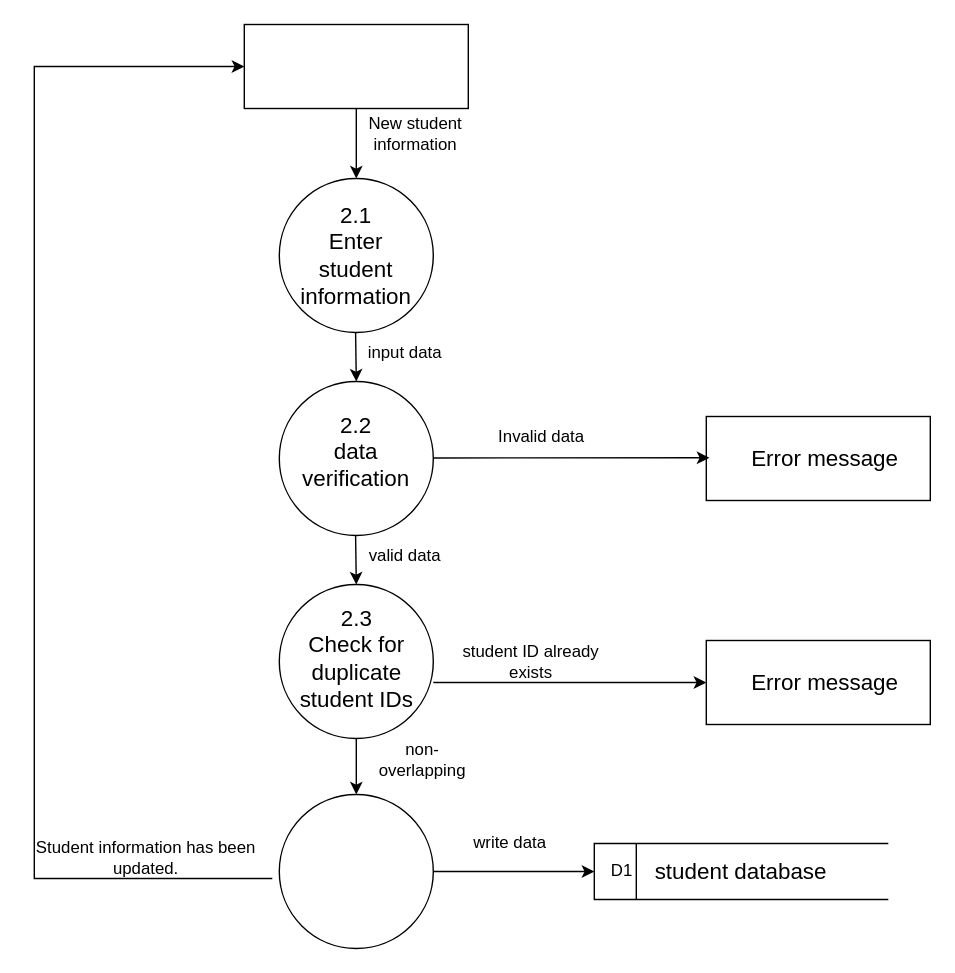
The diagram is 955 pixels wide and 973 high, and some of its shapes have lost their labels. Here are the shapes that lost their labels. From the top down, the centre of each, then its label:
At (x=355, y=65): "Admin / Staff".
At (x=355, y=870): "2.4 store student data in the database".
